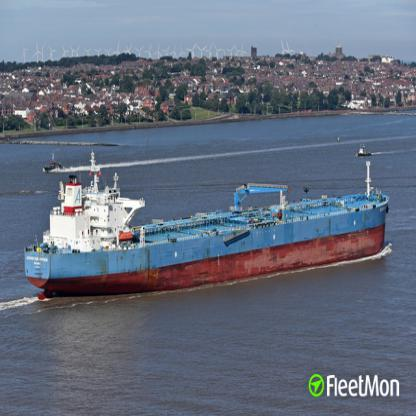Merchant Ship: (24, 148, 390, 300)
Patrol Boat: (356, 143, 372, 157), (43, 161, 63, 172)
